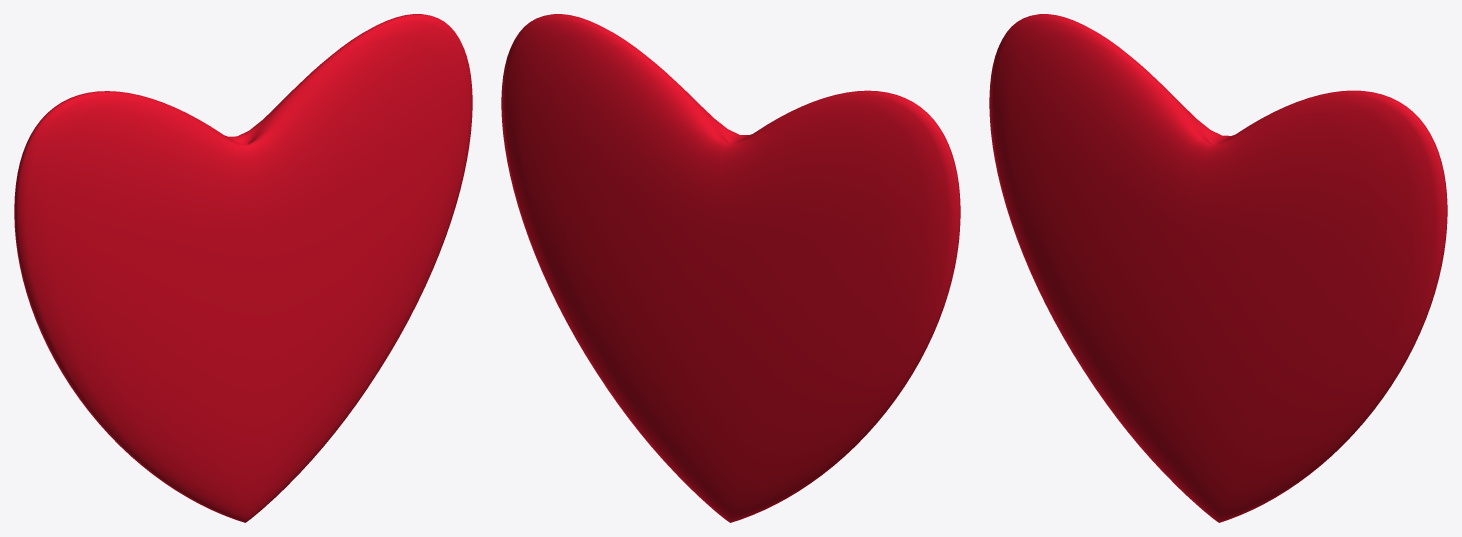
The model's file is Heart.fbx.
The picture shows the model from 3 angles, left to right: view 1: azimuth 30°, elevation 25°; view 2: azimuth 150°, elevation 25°; view 3: azimuth 330°, elevation 25°; orthographic projection.
Parts seen in each view (by area): view 1: SurfSphere; view 2: SurfSphere; view 3: SurfSphere.
Boxes of the visible parts, x1,y1,x2,y2 form: SurfSphere: [14, 14, 472, 522]; SurfSphere: [501, 14, 960, 522]; SurfSphere: [989, 14, 1447, 522].
Bounding box in the file's own units: 199 × 195 × 22.69.
